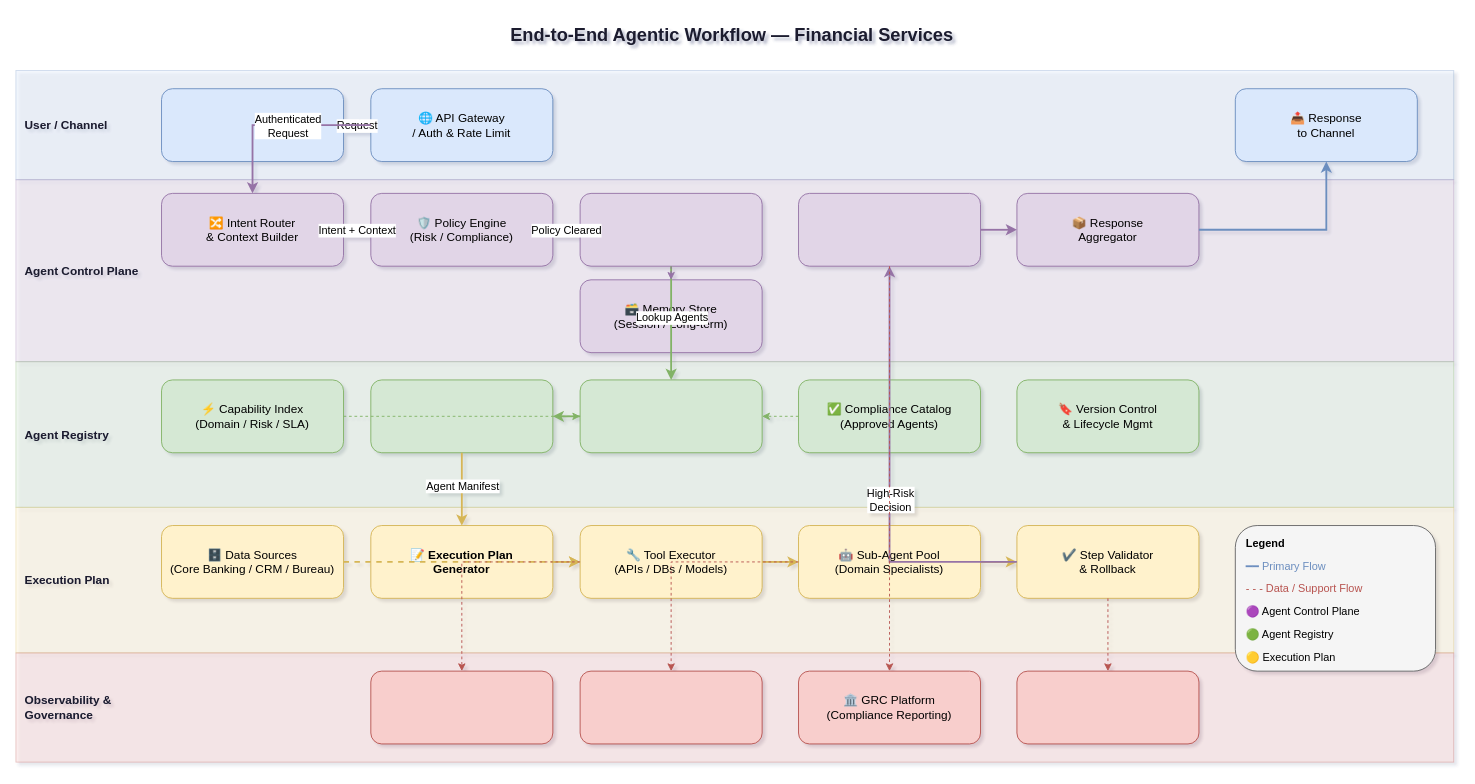
Some shapes in this 1475 by 784 pixel diagram are drawn without their labels. The shapes that lost their labels are listed below. From the top down, each one's centre as x and y in pixels, then its label:
the point at 252,125: 👤 End User (Web / Mobile / API)
the point at 670,229: 🧠 Orchestrator (Task Planner)
the point at 889,229: 👨‍💼 Human-in-Loop Approval Gate
the point at 461,416: 📋 Agent Registry (Metadata Store)
the point at 670,416: 🔍 Agent Discovery & Selection
the point at 461,707: 📜 Audit Log & Explainability
the point at 670,707: 📊 Monitoring & Alerting
the point at 1107,707: 📈 Model Risk Management
